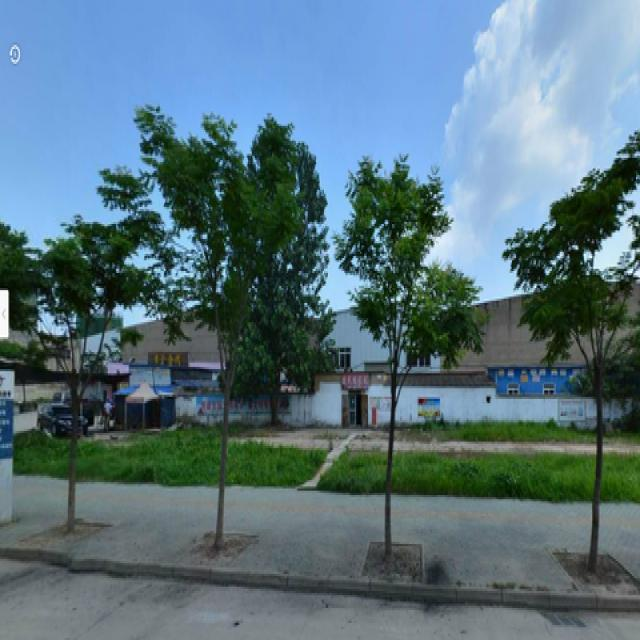koel: (340, 152, 483, 554)
